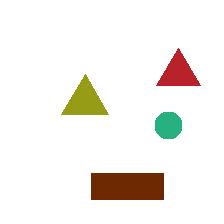circle: (155, 112, 181, 138)
rectangle: (91, 173, 163, 199)
triangle: (61, 74, 108, 114), (156, 48, 200, 85)
